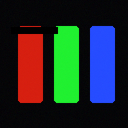3 line_h: (11, 27, 57, 33)
